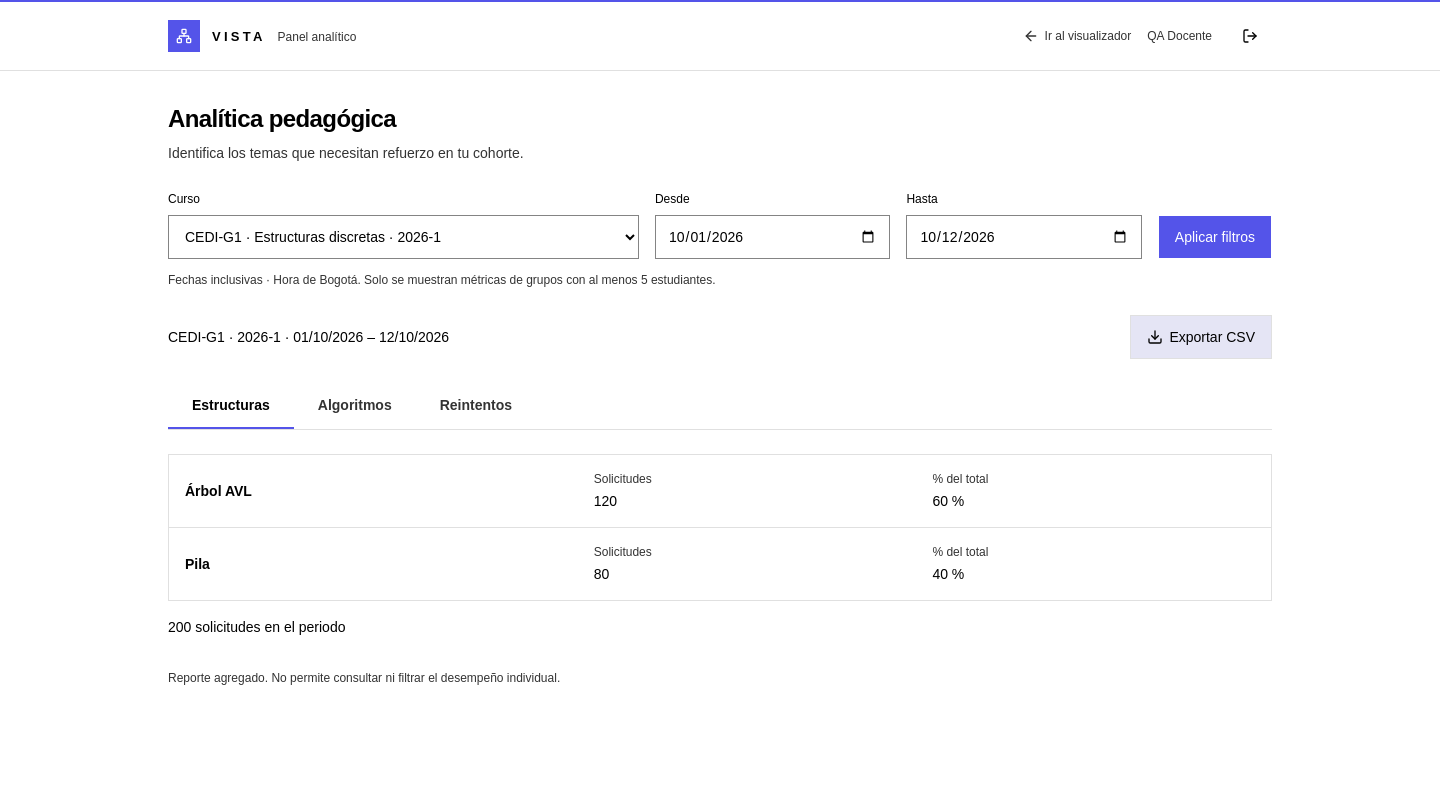
Test: recalcula con los filtros aplicados y deshabilita exportación mientras están pendientes
Select "CEDI-G2 · Segundo grupo · 2026-1" in the dropdown with test id "analytics-course": (404, 237) top-left (168, 215), bottom-right (639, 259)
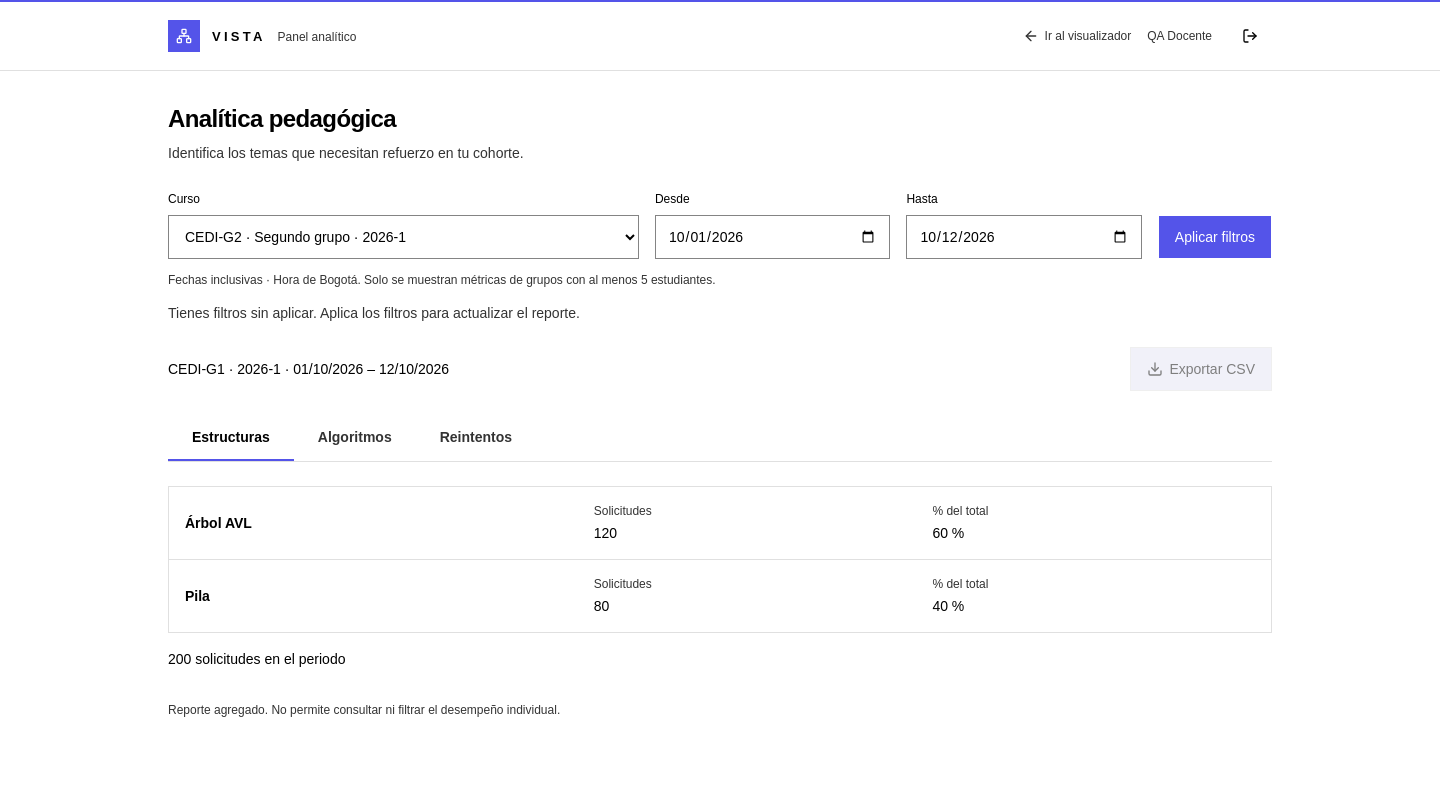
In the date field with test id "analytics-from": (773, 237) top-left (655, 215), bottom-right (891, 259), type "2026-04-01"
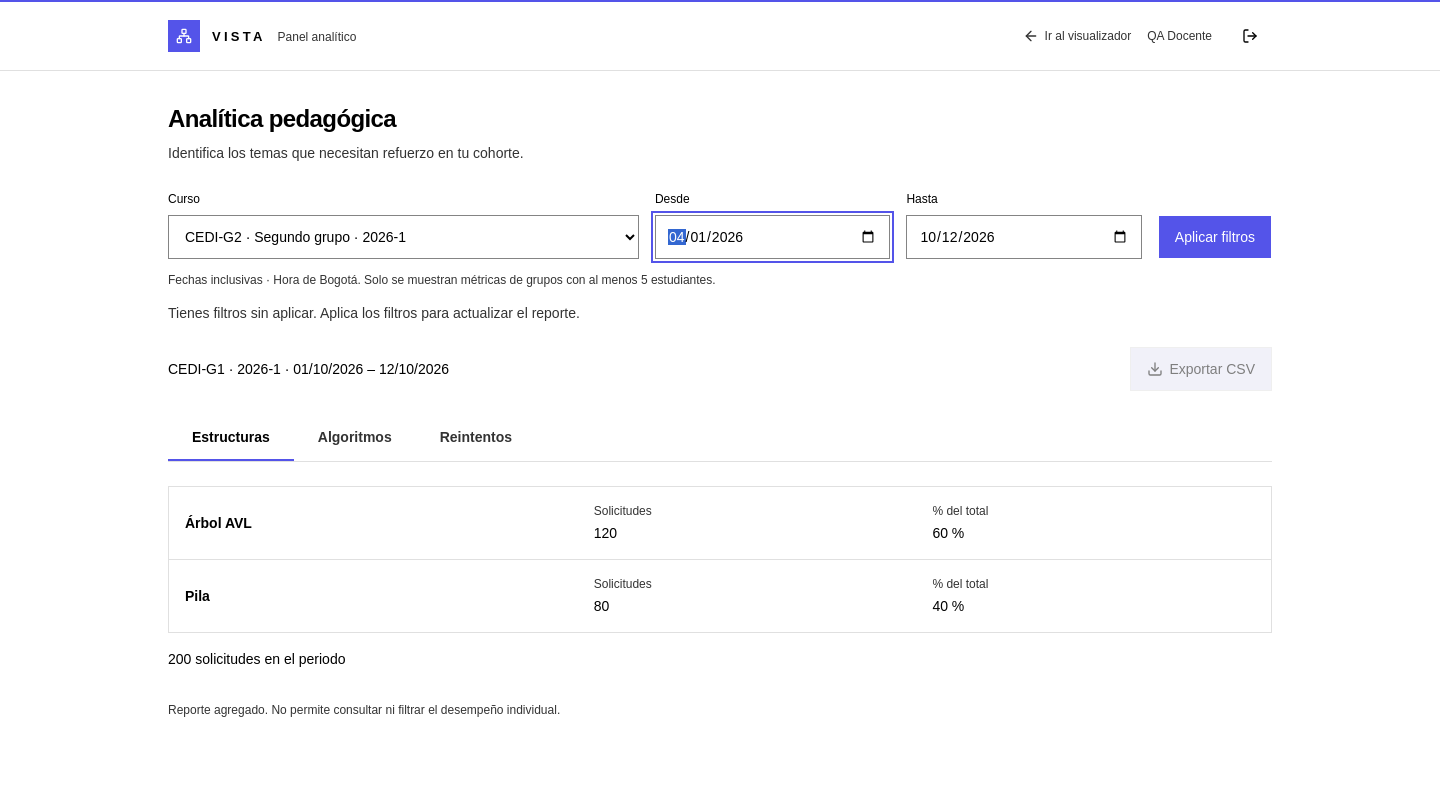
In the date field with test id "analytics-to": (1024, 237) top-left (906, 215), bottom-right (1142, 259), type "2026-04-30"
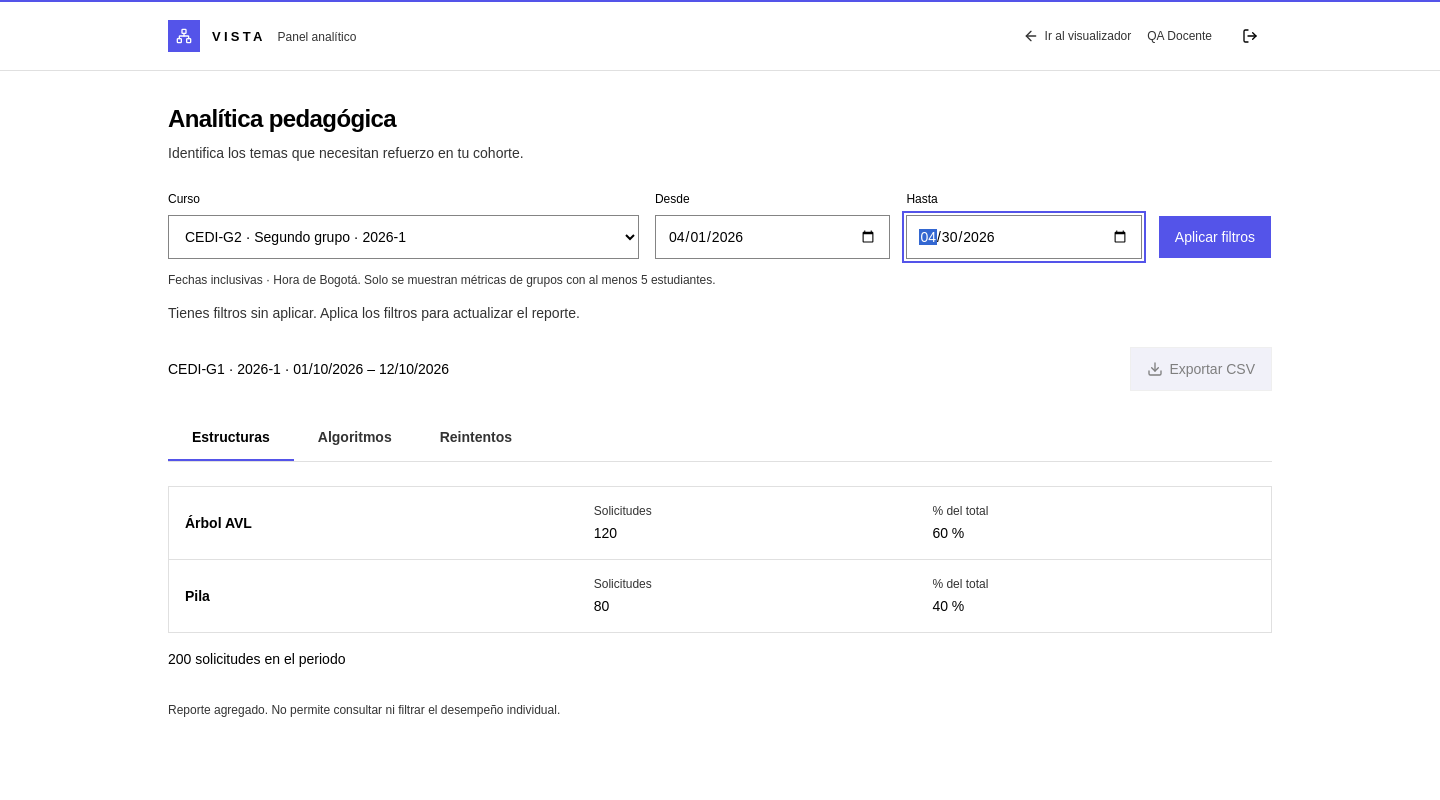
Expected: the button with test id "analytics-export" is disabled, top-left (1130, 347), bottom-right (1272, 391)
Click the button with test id "analytics-apply": (1215, 237) top-left (1158, 215), bottom-right (1272, 259)
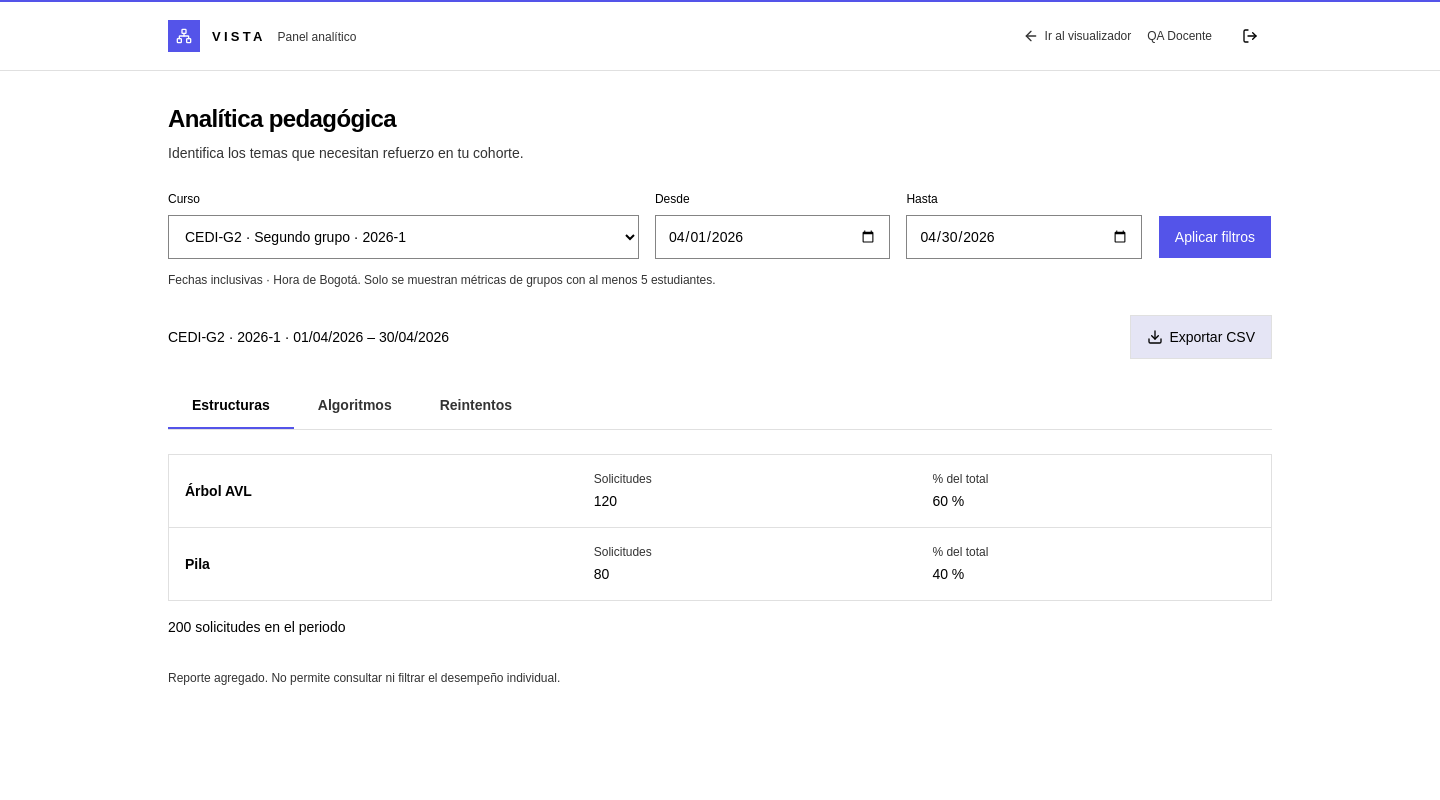
Expected: the text with test id "analytics-applied" shows "CEDI-G2", top-left (168, 329), bottom-right (225, 345)
Expected: the text with test id "analytics-applied" shows "01/04/2026", top-left (293, 329), bottom-right (363, 345)
Expected: the text with test id "analytics-applied" shows "30/04/2026", top-left (379, 329), bottom-right (449, 345)
